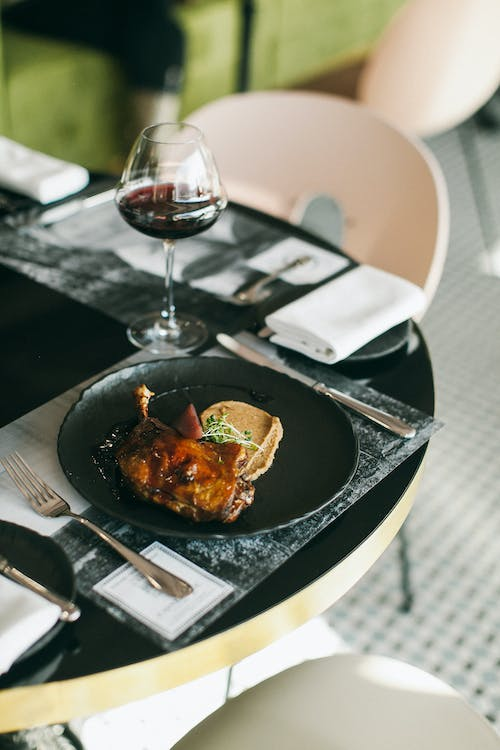alcohol: (109, 121, 227, 358)
knife: (213, 329, 418, 442)
